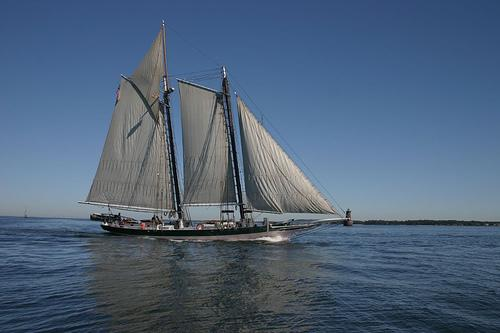Ship: (78, 17, 355, 242)
